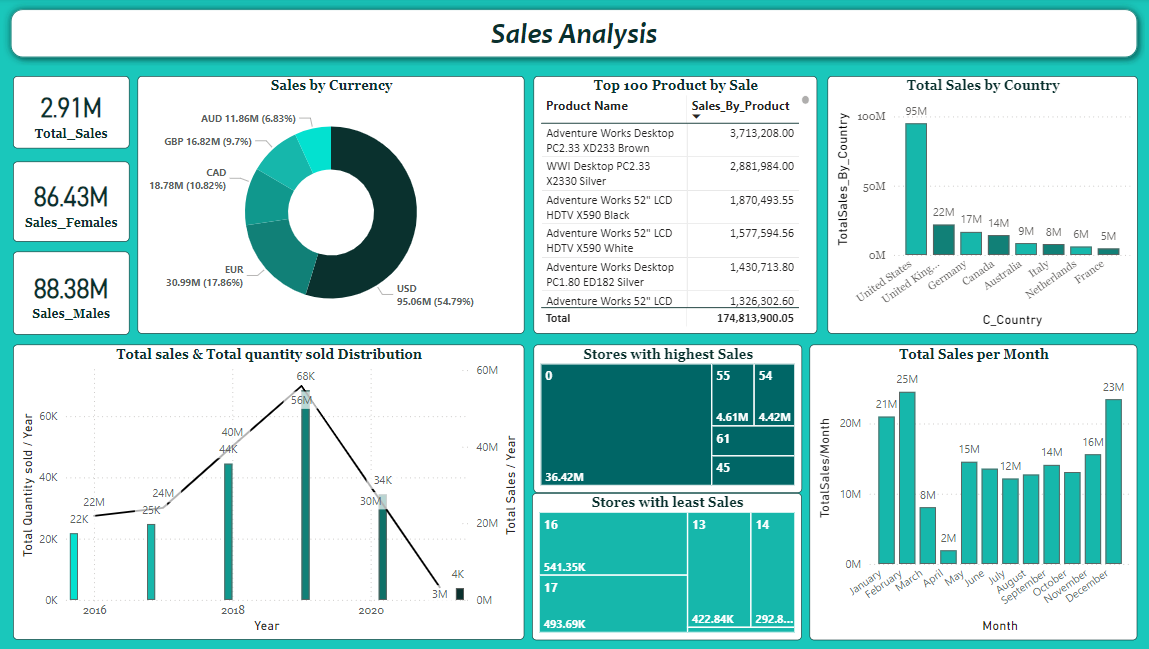

This screenshot's page, from the dashboard's own definition file:
{"tool":"powerbi","page":{"name":"Sales Analysis","canvas":[1280,720],"ordinal":1},"visuals":[{"type":"shape","box":[0,0,1280.5,720.6],"z":0},{"type":"shape","box":[9.1,3.2,1262.3,71.4],"z":1000},{"type":"card","fields":{"Values":["Calculated measure.TotalSales"]},"box":[20,86.7,128.3,80],"z":2000},{"type":"lineClusteredColumnComboChart","title":"Total sales & Total quantity sold Distribution","fields":{"Y":["Calculated measure.TotalQuantitySold_2016","Calculated measure.TotalQuantitySold_2017","Calculated measure.TotalQuantitySold_2018","Calculated measure.TotalQuantitySold_2019","Calculated measure.TotalQuantitySold_2020","Calculated measure.TotalQuantitySold_2021"],"Y2":["Calculated measure.TotalSales/Year"],"Category":["dataspark sales.Order Date.Variation.Date Hierarchy.Year"]},"box":[19.9,382.6,546.6,326.3],"z":3000},{"type":"card","fields":{"Values":["Calculated measure.Sales_Females"]},"box":[20,180,128.3,88.3],"z":4000},{"type":"card","fields":{"Values":["Calculated measure.Sales_Males"]},"box":[20,280,128.3,91.7],"z":5000},{"type":"donutChart","title":"Sales by Currency ","fields":{"Category":["dataspark sales.Currency Code"],"Y":["Calculated measure.Sales_by_Currency"]},"box":[157.4,86.1,427.4,284.9],"z":6000},{"type":"tableEx","title":"Top 100 Product by Sale","fields":{"Values":["dataspark products.Product Name","Calculated measure.Sales_By_Product"]},"box":[594.7,86.1,313.1,284.9],"z":7000},{"type":"columnChart","title":"Total Sales by Country","fields":{"Category":["dataspark customers.C_Country"],"Y":["Calculated measure.TotalSales_By_Country"]},"box":[919.3,86.1,342.9,284.9],"z":8000},{"type":"treemap","title":"Stores with highest Sales","fields":{"Group":["dataspark sales.StoreKey"],"Values":["Calculated measure.TotalSales_By_Store"]},"box":[577,383,296,164],"z":9000},{"type":"treemap","title":"Stores with least Sales","fields":{"Group":["dataspark stores.StoreKey"],"Values":["Calculated measure.TotalSales_By_Store"]},"box":[577,547,298,162],"z":10000},{"type":"columnChart","title":"Total Sales per Month","fields":{"Category":["dataspark sales.Order Date.Variation.Date Hierarchy.Month"],"Y":["Calculated measure.TotalSales/Month"]},"box":[884,382,378,327],"z":11001}]}

Visuals, with their boxes in screenshot pixels (x1, y1, x2, y2), scaled from the page's 1280x720 canvas onto the 1149x649 screenshot:
shape: <bbox>0, 0, 1148, 648</bbox>
shape: <bbox>8, 3, 1141, 67</bbox>
card - Calculated measure.TotalSales: <bbox>18, 78, 133, 150</bbox>
"Total sales & Total quantity sold Distribution" lineClusteredColumnComboChart: <bbox>18, 345, 509, 639</bbox>
card - Calculated measure.Sales_Females: <bbox>18, 162, 133, 242</bbox>
card - Calculated measure.Sales_Males: <bbox>18, 252, 133, 335</bbox>
"Sales by Currency " donutChart: <bbox>141, 78, 525, 334</bbox>
"Top 100 Product by Sale" tableEx: <bbox>534, 78, 815, 334</bbox>
"Total Sales by Country" columnChart: <bbox>825, 78, 1133, 334</bbox>
"Stores with highest Sales" treemap: <bbox>518, 345, 784, 493</bbox>
"Stores with least Sales" treemap: <bbox>518, 493, 785, 639</bbox>
"Total Sales per Month" columnChart: <bbox>794, 344, 1133, 639</bbox>
